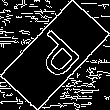P_SE: (23, 25, 87, 85)
